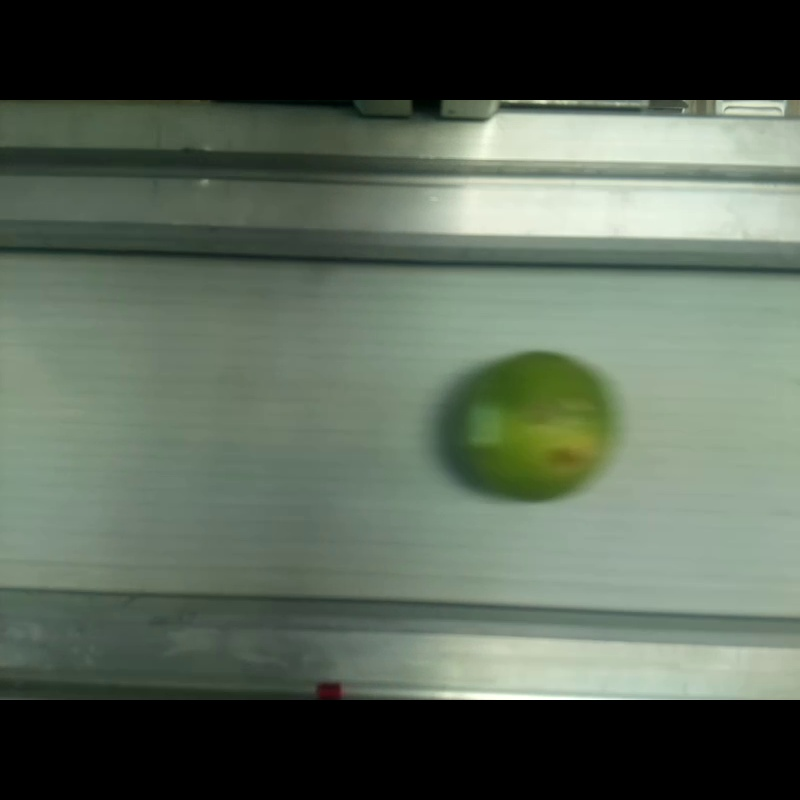lime: (457, 351, 610, 503)
